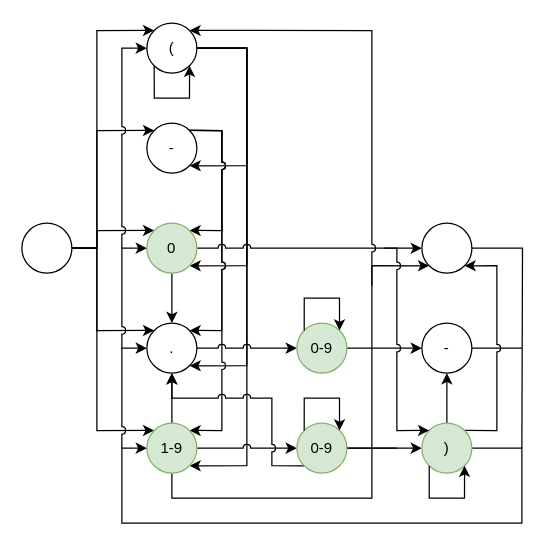
Some shapes in this 554 by 556 pixel diagram are drawn without their labels. Here are the shapes that lost their labels. From the top down, the centre of each, then its label:
the point at 46,247: Start
the point at 446,247: %/x+
